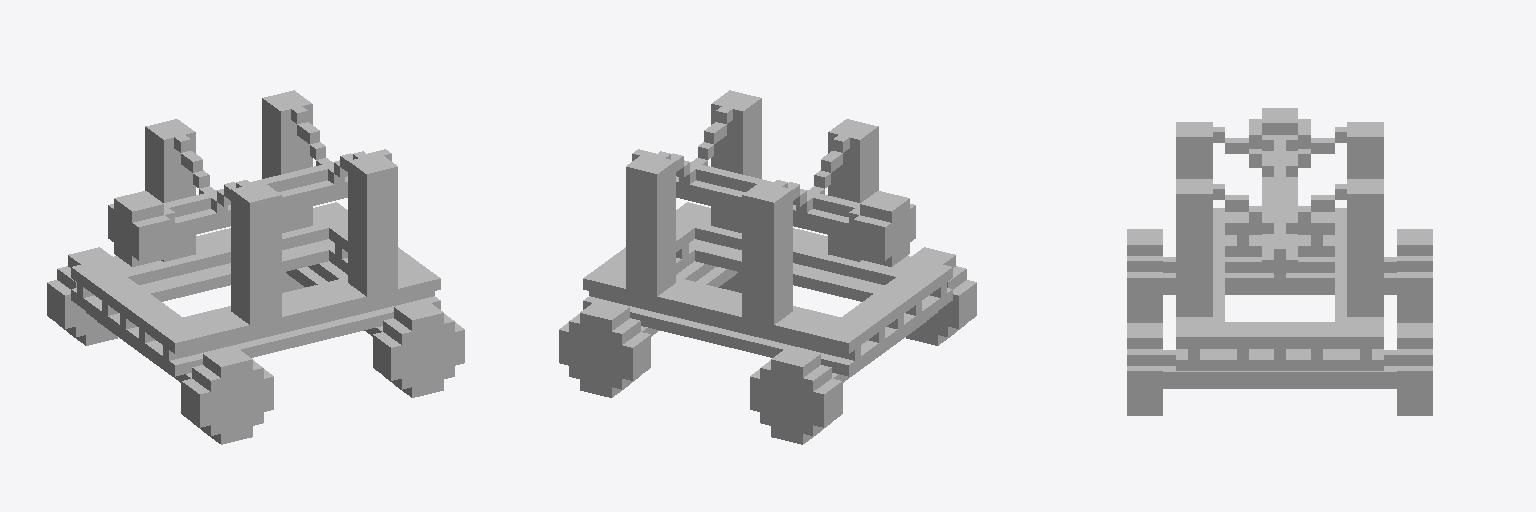
The model's file is ram.obj.
3 renders of one model, left to right at view 1: azimuth 30°, elevation 25°; view 2: azimuth 150°, elevation 25°; view 3: azimuth 270°, elevation 25°, orthographic.
Visible parts, largest first — view 1: object 1; view 2: object 1; view 3: object 1.
Part boxes in pixels (x1,y1,x2,y2): object 1: (47,90,464,444); object 1: (559,90,976,444); object 1: (1127,108,1432,415).
Bounding box in the file's own units: 2.5 × 1.9 × 2.5.